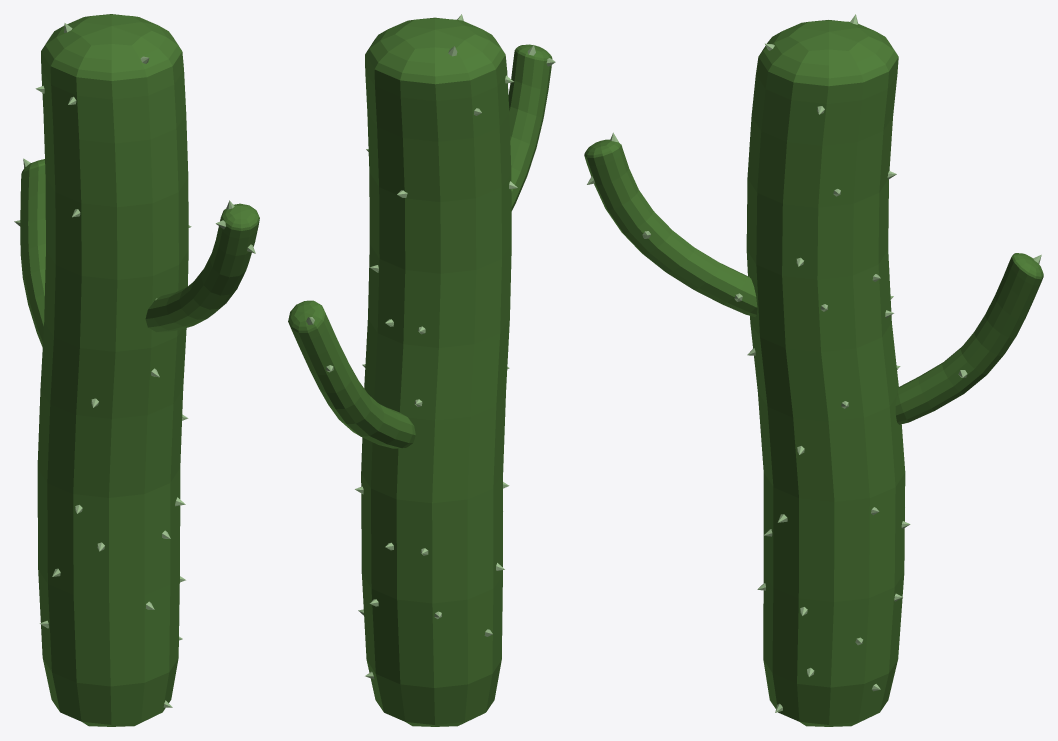
File: Cactus3.fbx
The picture shows the model from 3 angles, left to right: view 1: azimuth 30°, elevation 25°; view 2: azimuth 150°, elevation 25°; view 3: azimuth 270°, elevation 25°; orthographic projection.
Parts seen in each view (by area): view 1: Cactus; view 2: Cactus; view 3: Cactus.
Boxes of the visible parts, bbox=[...] form: Cactus: bbox=[14, 14, 259, 726]; Cactus: bbox=[288, 14, 555, 726]; Cactus: bbox=[584, 14, 1043, 726].
Bounding box in the file's own units: 59.76 × 296 × 180.
